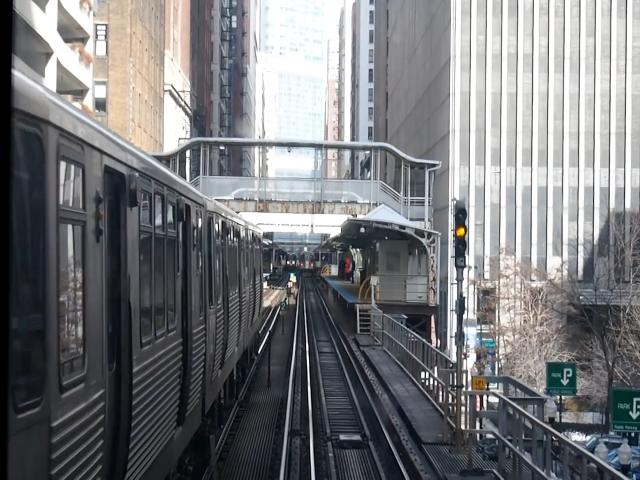signal light: (453, 198, 472, 272)
